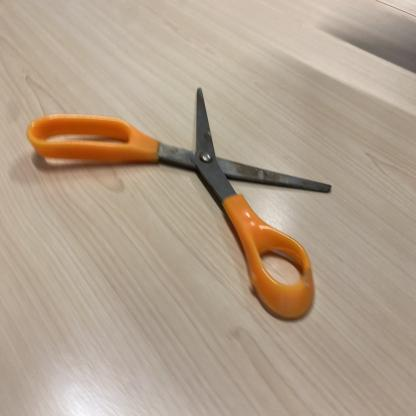scissors: (25, 86, 334, 328)
